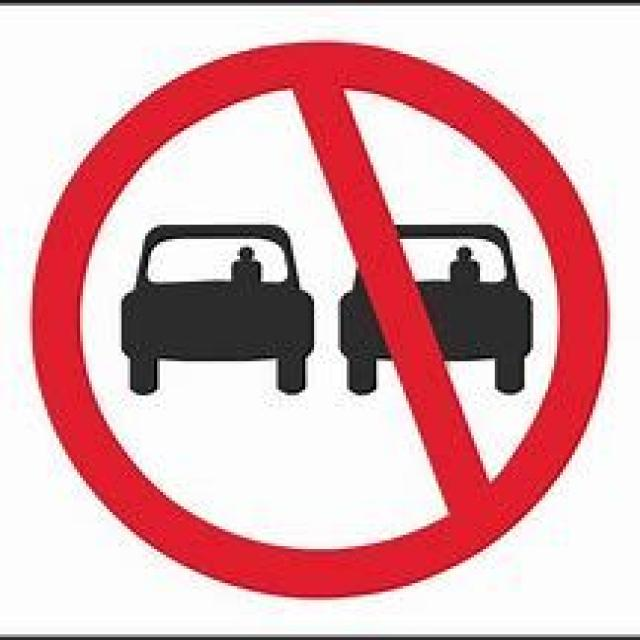no_stop: (27, 40, 607, 597)
